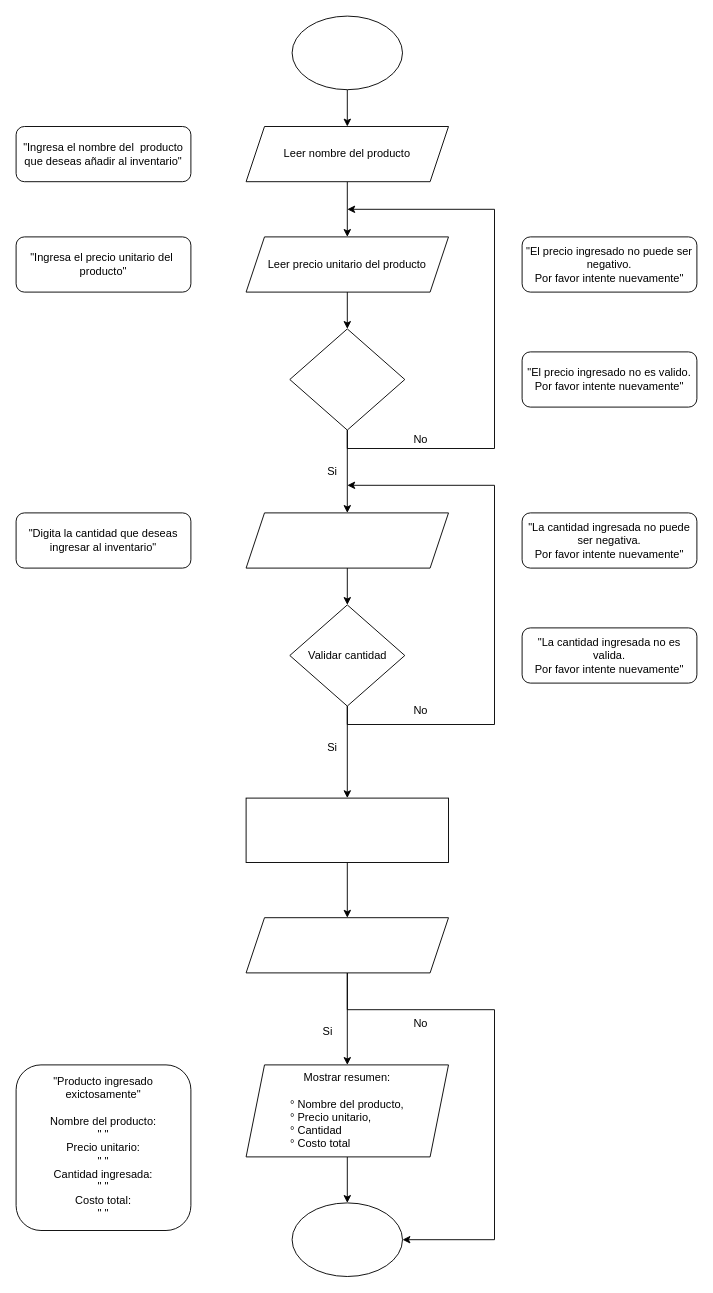
Some shapes in this 713 by 1293 pixel diagram are drawn without their labels. The shapes that lost their labels are listed below. From the top down, each one's centre as x and y in pixels, then its label:
the point at 346,52: INICIO
the point at 347,379: Validar precio unitario
the point at 346,540: Leer cantidad a ingresar en el inventario
the point at 346,829: Calcular costo total Total = Precio * Cantidad
the point at 346,945: Confirmar
the point at 346,1239: FIN
